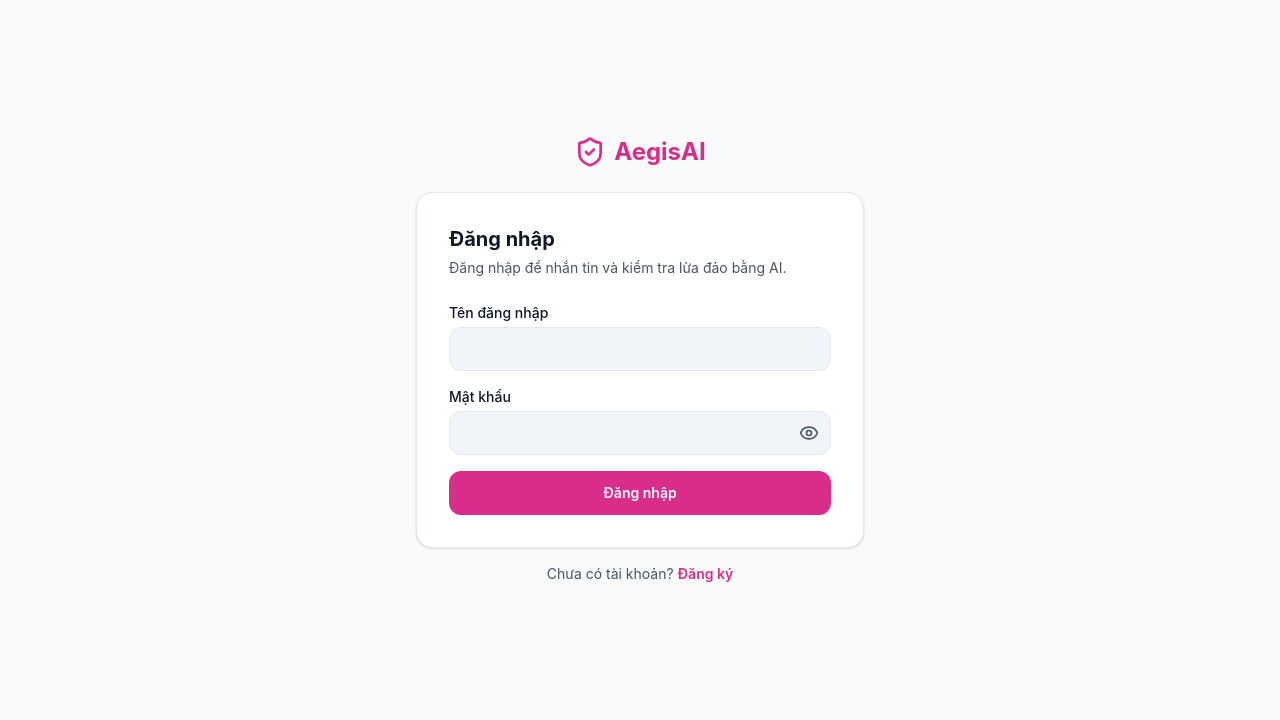
it: Trang đăng nhập › đăng nhập khi đang mở dở /history thì quay lại /history
Expected: the heading "Đăng nhập" is shown, [449,227,555,251]
Type "demo_user" into the field labelled "Tên đăng nhập" at x=640, y=349, box [449,327,831,371]
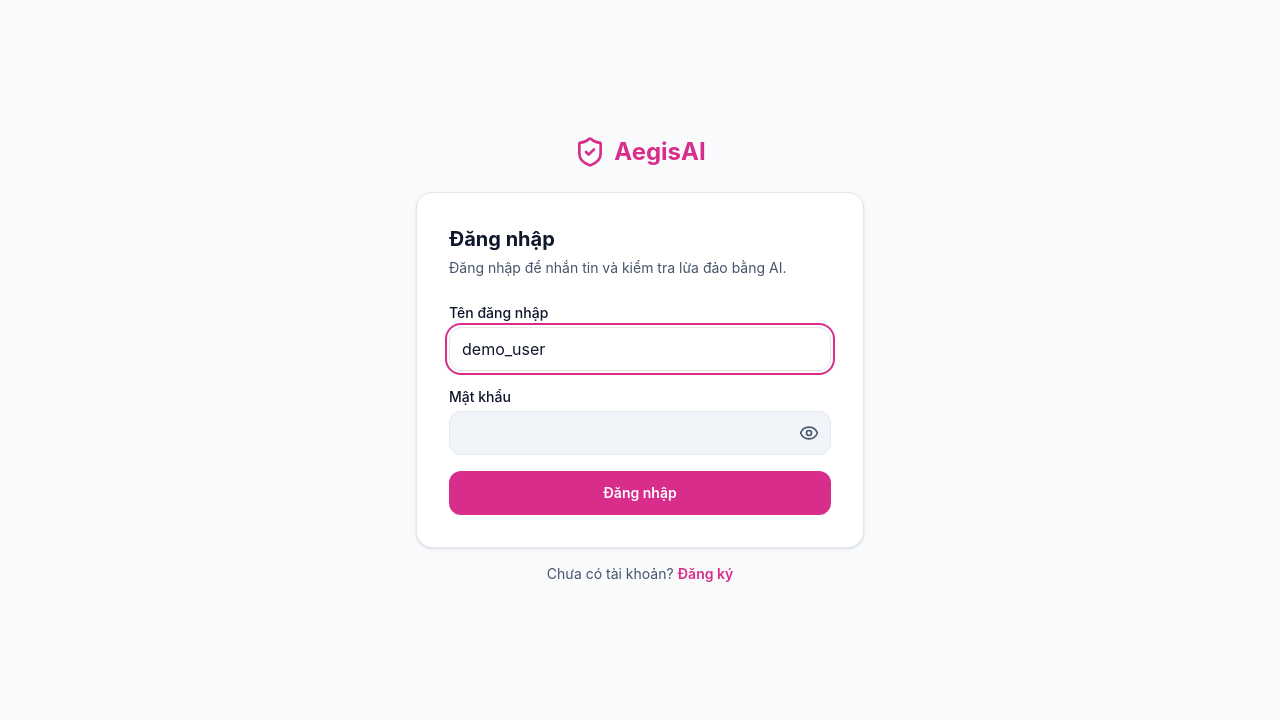
Type "password123" into the password field labelled "Mật khẩu" at x=640, y=433, box [449,411,831,455]
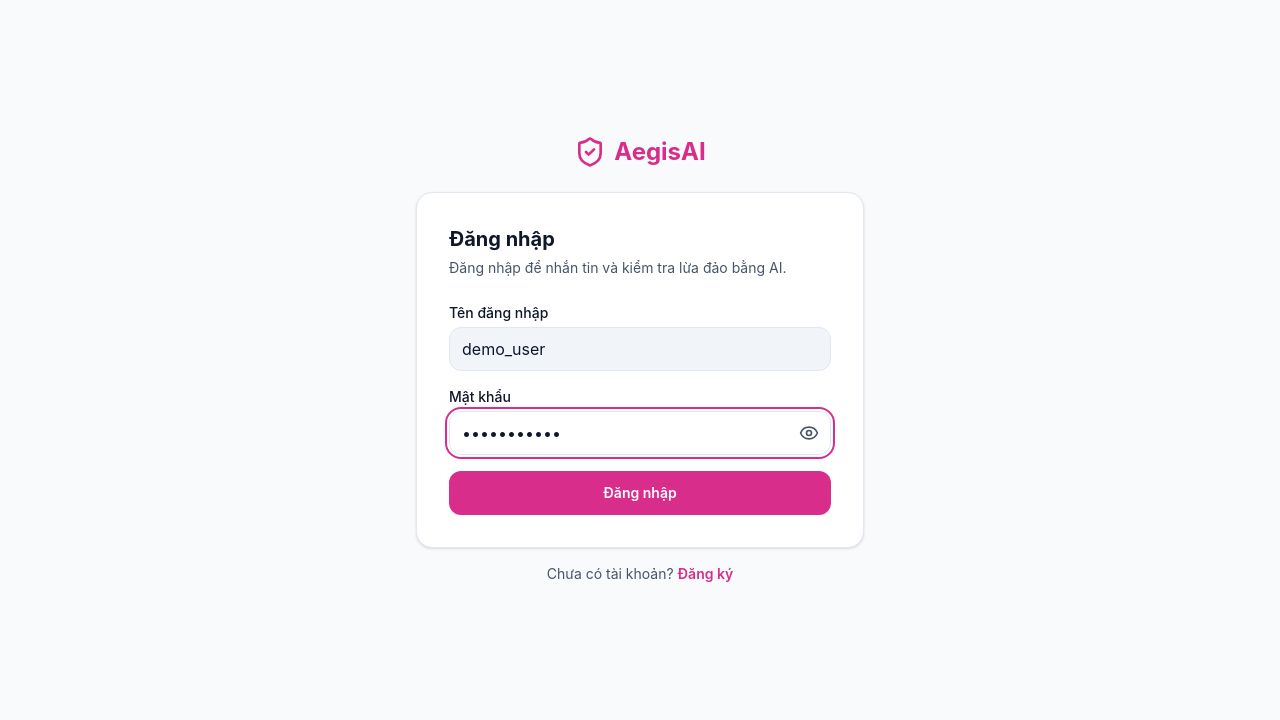
Click the button "Đăng nhập" at x=640, y=493, box [449,471,831,515]
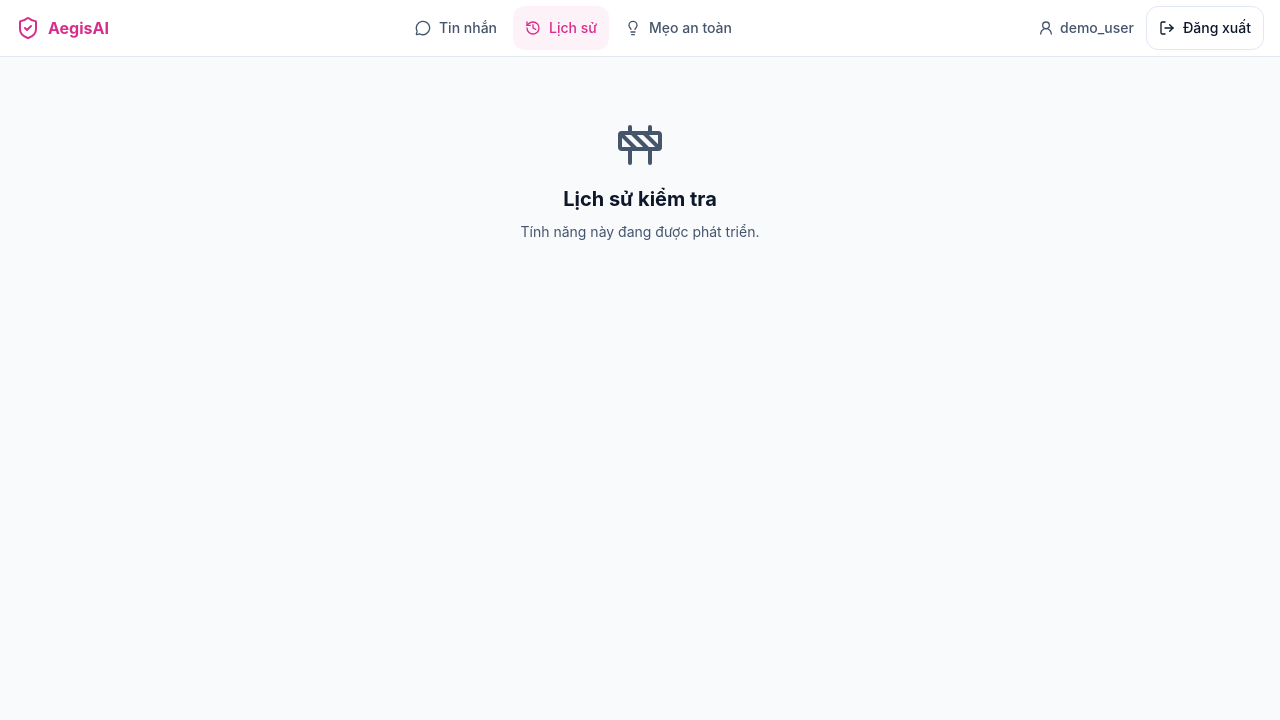
Expected: the heading "Lịch sử kiểm tra" is shown, [563,185,717,213]
